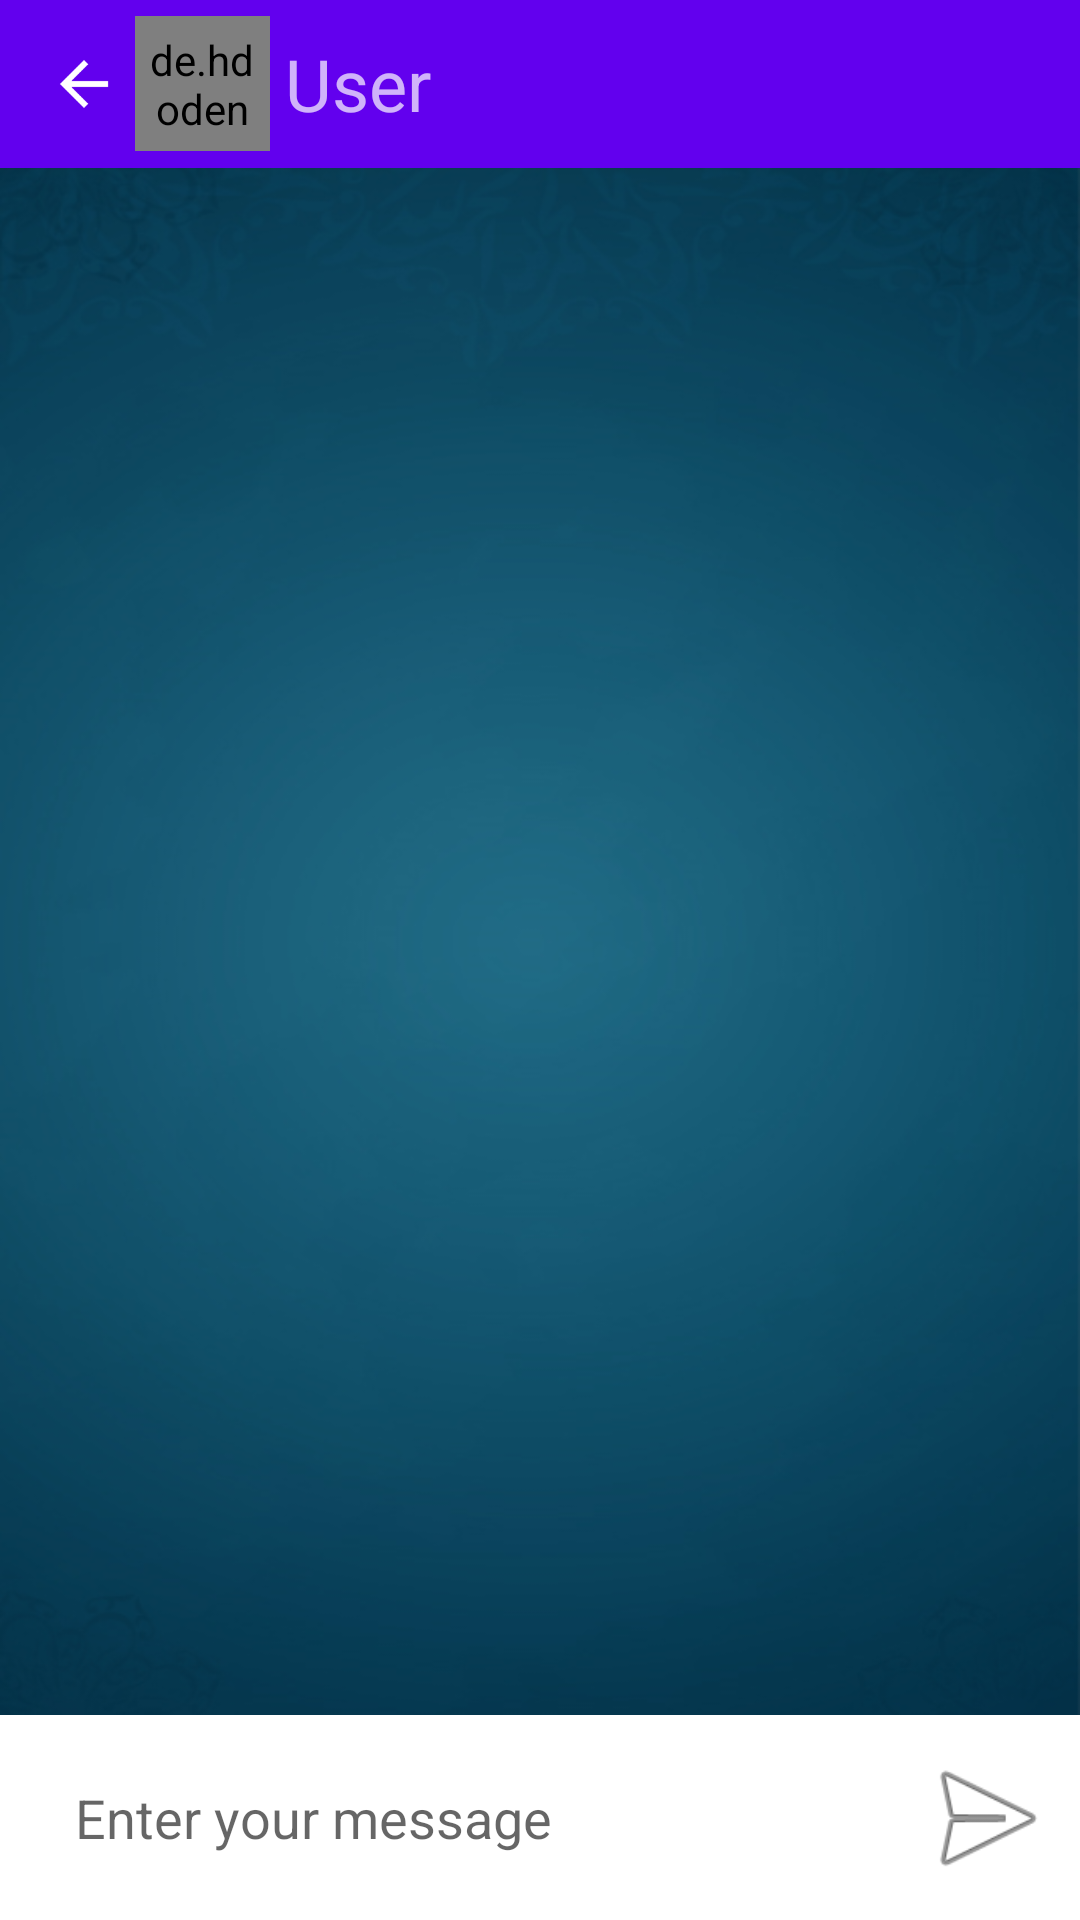

Named icons in this screenshot (1080*1920) and their centers, (x=x, y=y):
send: (x=988, y=1818)
